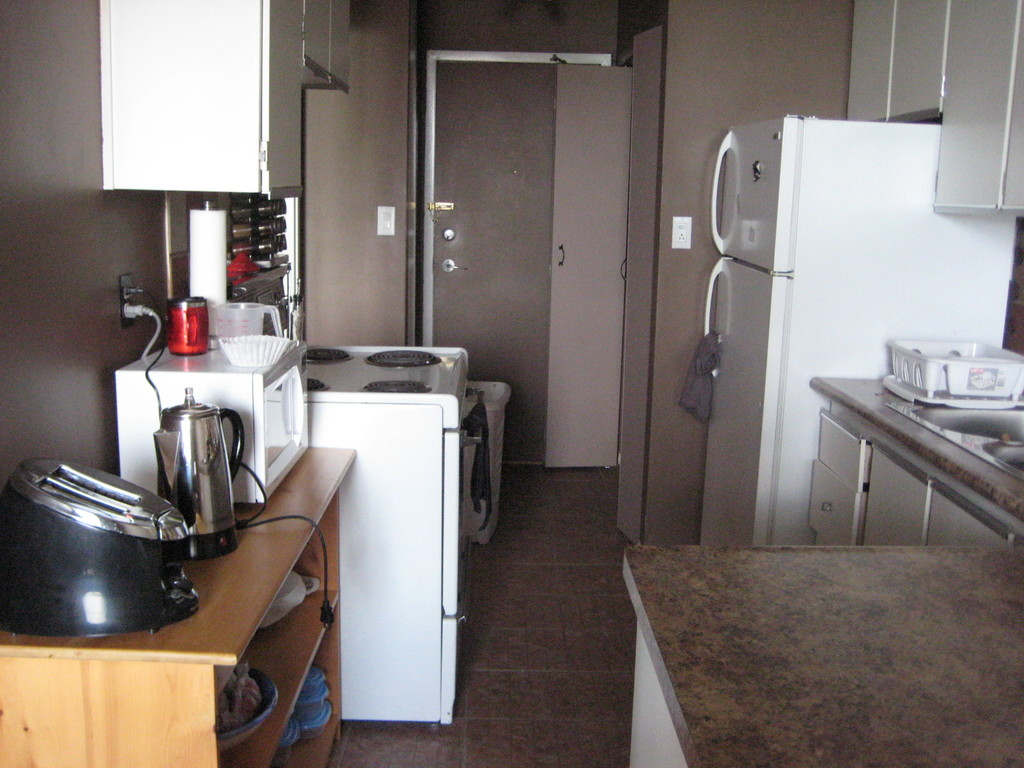cabinet door: (553, 62, 618, 473), (630, 44, 665, 547), (265, 7, 303, 190), (815, 466, 856, 531), (820, 420, 864, 474), (328, 16, 352, 80), (303, 9, 327, 64)
door: (434, 58, 602, 462)
handle: (698, 126, 734, 262), (931, 491, 1014, 533), (698, 260, 728, 372), (873, 449, 929, 487), (817, 413, 866, 445), (612, 256, 631, 284)
refrigerator door: (713, 268, 765, 528), (715, 133, 783, 259)
